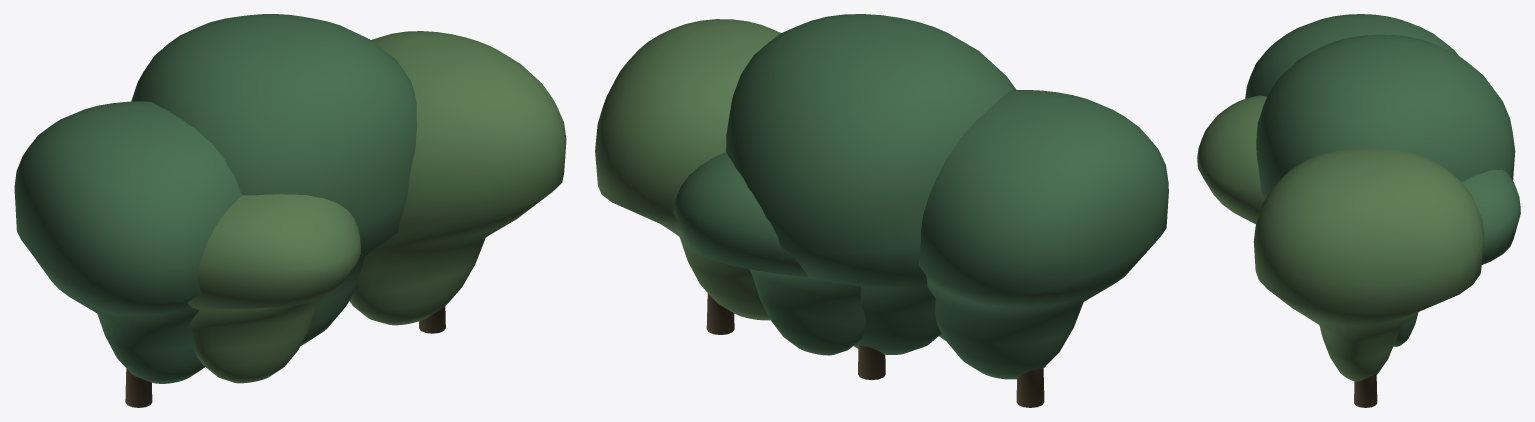
Rendered from city_planting_03.glb.
The picture shows the model from 3 angles, left to right: view 1: azimuth 30°, elevation 25°; view 2: azimuth 150°, elevation 25°; view 3: azimuth 270°, elevation 25°; orthographic projection. The views are drawn at different scales.
Parts seen in each view (by area): view 1: crown_centre, crown_west, crown_east, crown_back_shoulder, three_recessed_stems; view 2: crown_centre, crown_west, crown_east, crown_front_shoulder, three_recessed_stems; view 3: crown_east, crown_centre, crown_back_shoulder, crown_west, crown_front_shoulder, three_recessed_stems.
Part boxes in pixels (x1,y1,x2,y2): crown_centre: (131, 14, 417, 345); crown_west: (14, 101, 241, 383); crown_east: (349, 31, 566, 325); crown_back_shoulder: (187, 194, 360, 383); three_recessed_stems: (125, 306, 445, 407); crown_centre: (726, 14, 1016, 354); crown_west: (918, 90, 1168, 379); crown_east: (595, 19, 780, 320); crown_front_shoulder: (673, 152, 865, 355); three_recessed_stems: (706, 293, 1044, 407); crown_east: (1253, 149, 1484, 381); crown_centre: (1256, 34, 1515, 199); crown_back_shoulder: (1197, 95, 1266, 224); crown_west: (1245, 14, 1458, 98); crown_front_shoulder: (1393, 169, 1520, 346); three_recessed_stems: (1354, 374, 1377, 407).
Size of the model in its own units: 1.08 by 0.67 by 0.6909.
